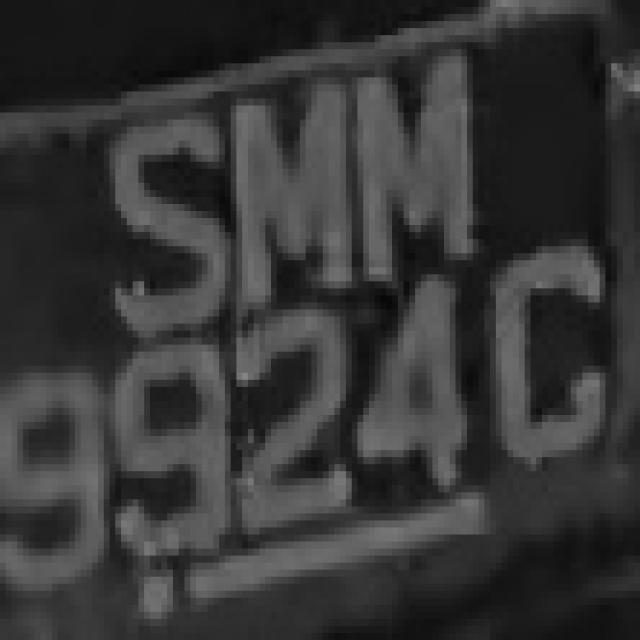2: (242, 288, 375, 548)
4: (329, 296, 484, 528)
9: (104, 302, 254, 584), (0, 351, 115, 583)
C: (484, 232, 606, 478)
M: (340, 28, 490, 296), (225, 64, 363, 324)
S: (104, 91, 236, 338)
